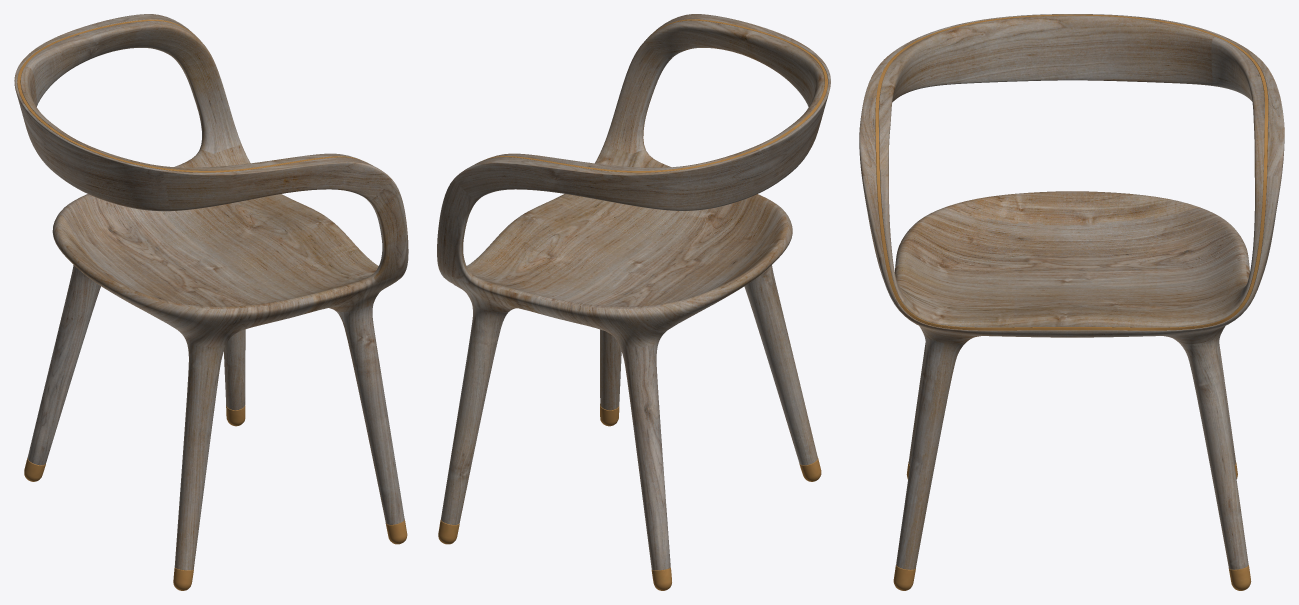
File: modelar.glb
The picture shows the model from 3 angles, left to right: view 1: azimuth 30°, elevation 25°; view 2: azimuth 150°, elevation 25°; view 3: azimuth 270°, elevation 25°; orthographic projection. The views are drawn at different scales.
Parts seen in each view (by area): view 1: 1_low.001; view 2: 1_low.001; view 3: 1_low.001.
Part boxes in pixels (x1,y1,x2,y2): 1_low.001: (14,14,408,590); 1_low.001: (437,14,830,590); 1_low.001: (859,14,1284,590).
Bounding box in the file's own units: 1.65 × 2.34 × 2.05.
1 material, 1 textured.
